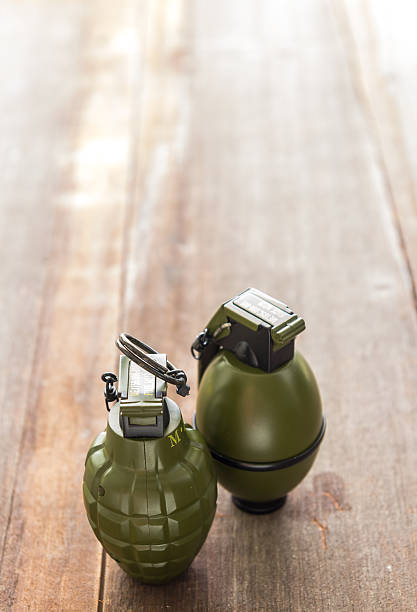e1: (83, 332, 217, 588), (195, 295, 327, 515)
